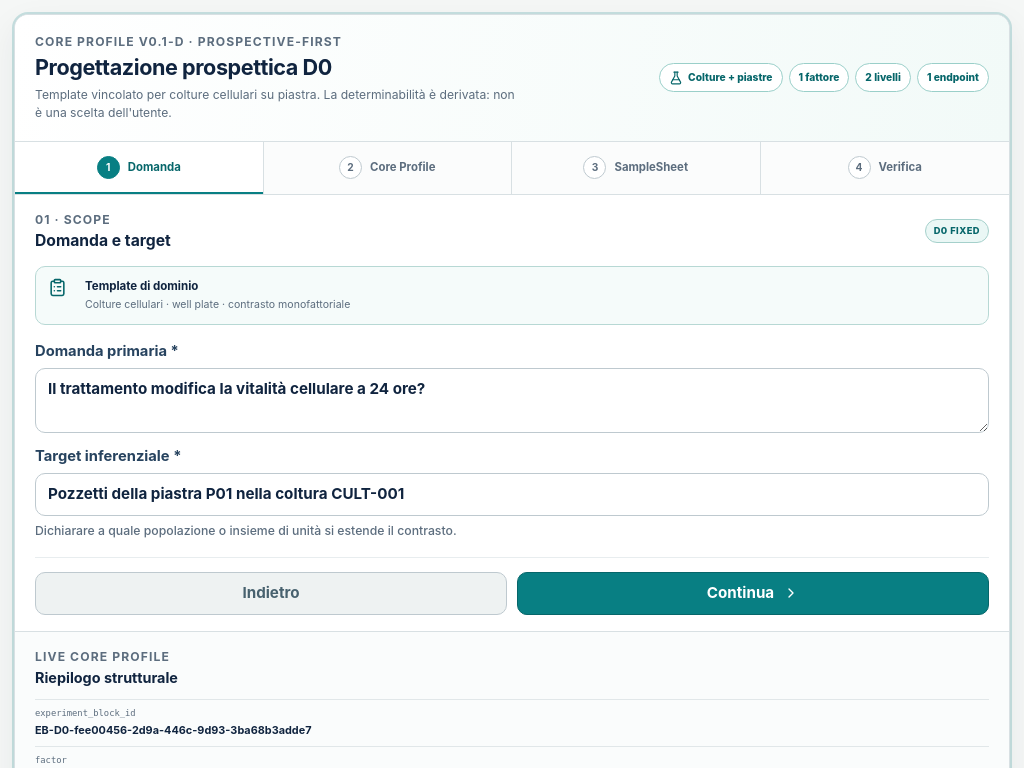
Test: Prospective D0 workspace › renders the Appendix O SampleSheet fields and preserves explicit missing semantics
The image size is (1024, 768).
Click the button "3 SampleSheet" at (636, 168), box [512,142,760,194]
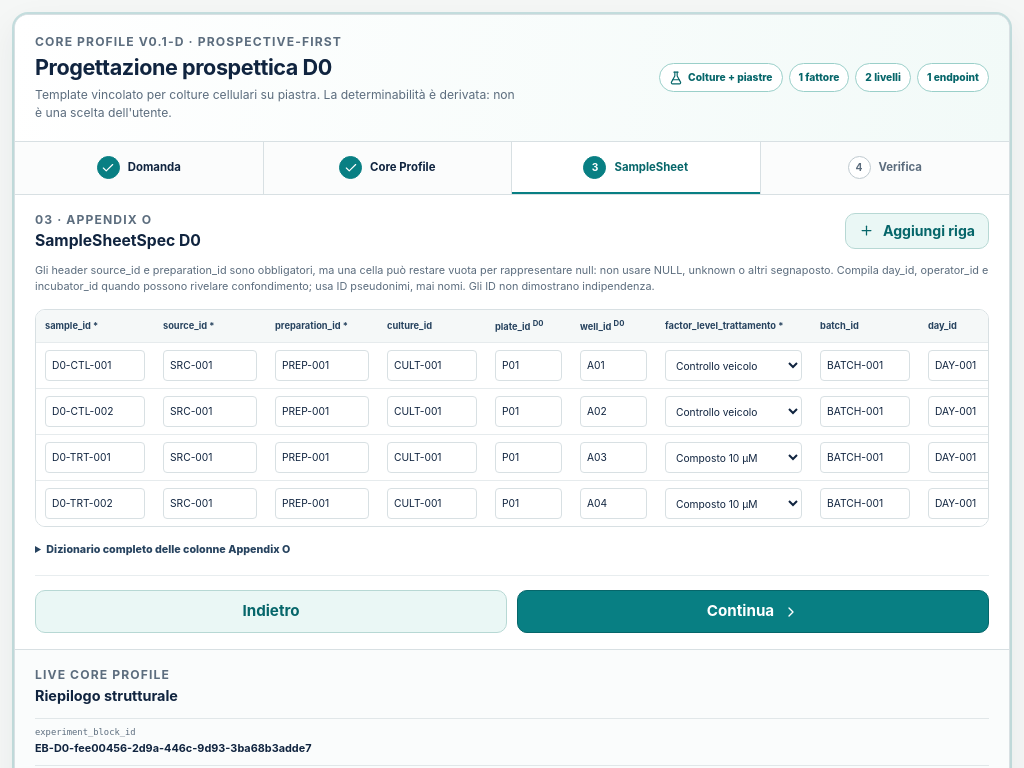
Result: the column heading "sample_id *" is shown at [36,310,154,343]
Result: the column heading "source_id *" is shown at [154,310,266,343]
Result: the column heading "preparation_id *" is shown at [266,310,378,343]
